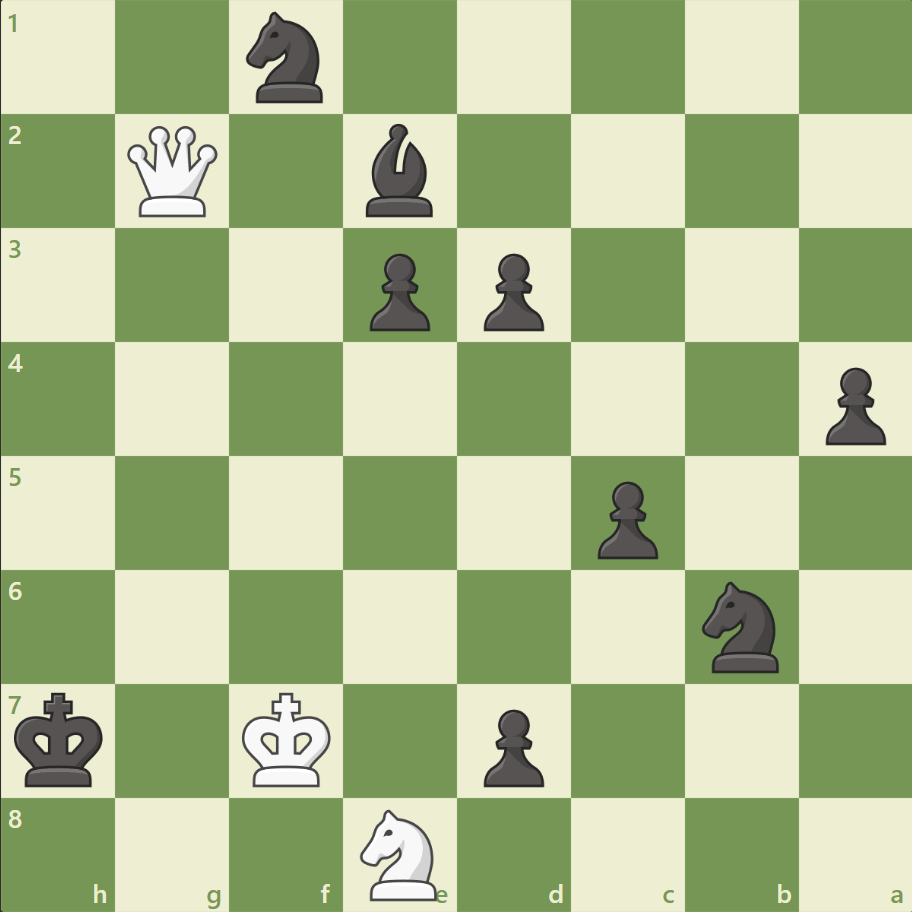K: (238, 685, 338, 793)
N: (351, 802, 449, 904)
Q: (124, 122, 223, 222)
b: (358, 120, 442, 222)
k: (11, 685, 111, 793)
n: (238, 7, 335, 110), (692, 575, 789, 677)
p: (474, 700, 549, 791), (474, 246, 549, 337), (588, 473, 662, 564), (815, 359, 889, 450), (361, 246, 435, 337)
